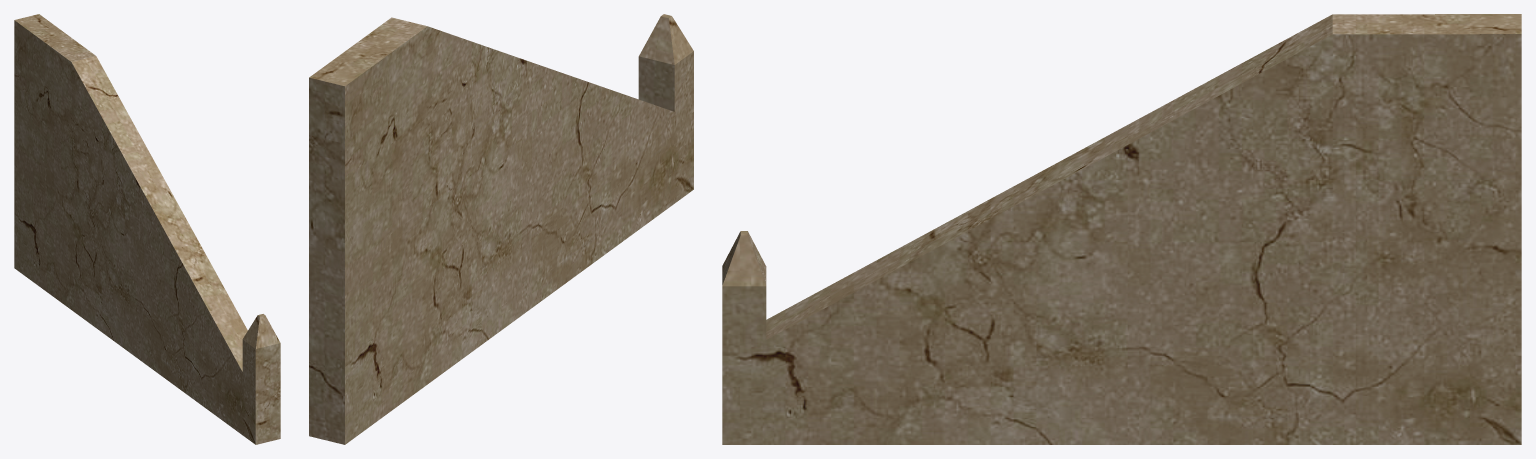
Rendered from pasted__stone_column_878.fbx.
The picture shows the model from 3 angles, left to right: view 1: azimuth 30°, elevation 25°; view 2: azimuth 150°, elevation 25°; view 3: azimuth 270°, elevation 25°; orthographic projection. The views are drawn at different scales.
Visible parts, largest first — view 1: pasted__stone_column_878; view 2: pasted__stone_column_878; view 3: pasted__stone_column_878.
Boxes of the visible parts, x1=… form: pasted__stone_column_878: x1=14, y1=14, x2=280, y2=444; pasted__stone_column_878: x1=309, y1=14, x2=693, y2=444; pasted__stone_column_878: x1=722, y1=14, x2=1521, y2=444.
Size of the model in its own units: 10 by 168 by 95.4.
